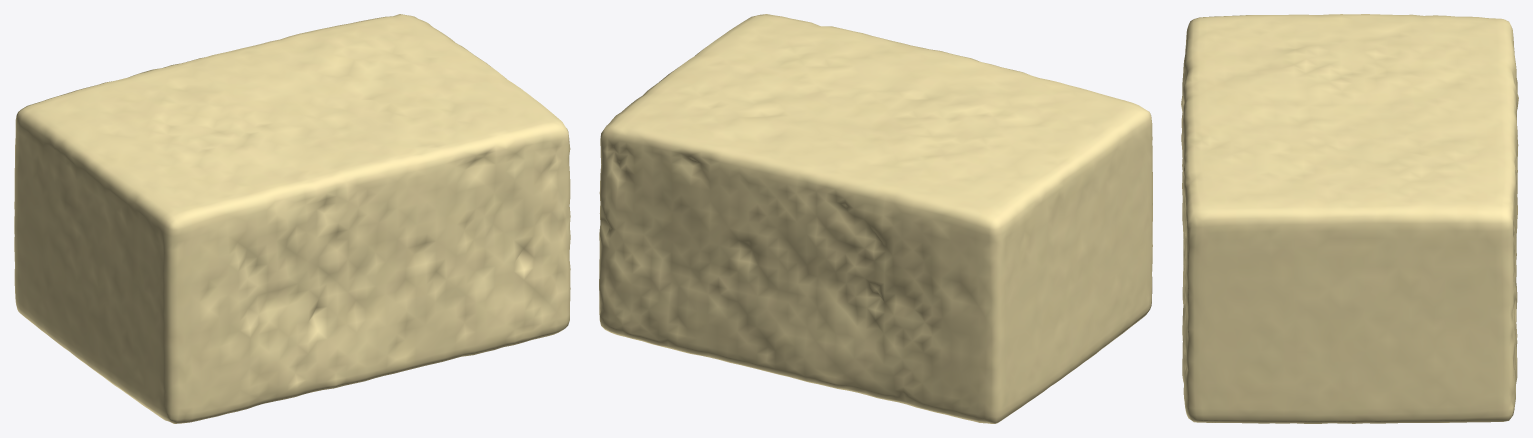
File: tofu.glb
The picture shows the model from 3 angles, left to right: view 1: azimuth 30°, elevation 25°; view 2: azimuth 150°, elevation 25°; view 3: azimuth 270°, elevation 25°; orthographic projection. The views are drawn at different scales.
Parts seen in each view (by area): view 1: 老豆腐（约稿修改）.001; view 2: 老豆腐（约稿修改）.001; view 3: 老豆腐（约稿修改）.001.
Part boxes in pixels (x1=…): 老豆腐（约稿修改）.001: x1=14, y1=14, x2=570, y2=423; 老豆腐（约稿修改）.001: x1=599, y1=14, x2=1152, y2=423; 老豆腐（约稿修改）.001: x1=1181, y1=14, x2=1518, y2=423.
Size of the model in its own units: 1.04 by 0.5279 by 0.7273.
Materials: 1 (1 with a texture image).
